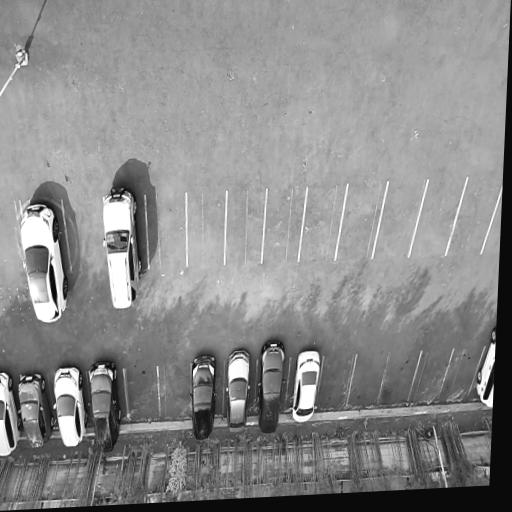Car: (18, 196, 73, 328), (100, 184, 145, 315), (87, 358, 124, 458), (15, 371, 58, 454), (52, 365, 91, 453), (255, 341, 288, 437), (289, 350, 324, 427), (189, 352, 218, 444), (225, 345, 253, 438), (471, 319, 497, 410), (0, 367, 24, 460)
Space Available: (408, 179, 467, 258), (446, 179, 503, 257), (372, 181, 428, 260), (335, 183, 388, 261), (298, 186, 347, 264), (261, 189, 307, 263), (62, 201, 106, 274), (146, 195, 188, 269), (225, 191, 267, 264), (186, 193, 226, 267), (438, 348, 485, 400), (408, 350, 454, 402), (378, 353, 421, 405), (315, 356, 356, 410), (347, 354, 389, 406), (124, 368, 160, 422), (0, 207, 25, 278), (157, 366, 191, 418), (481, 185, 503, 254)
